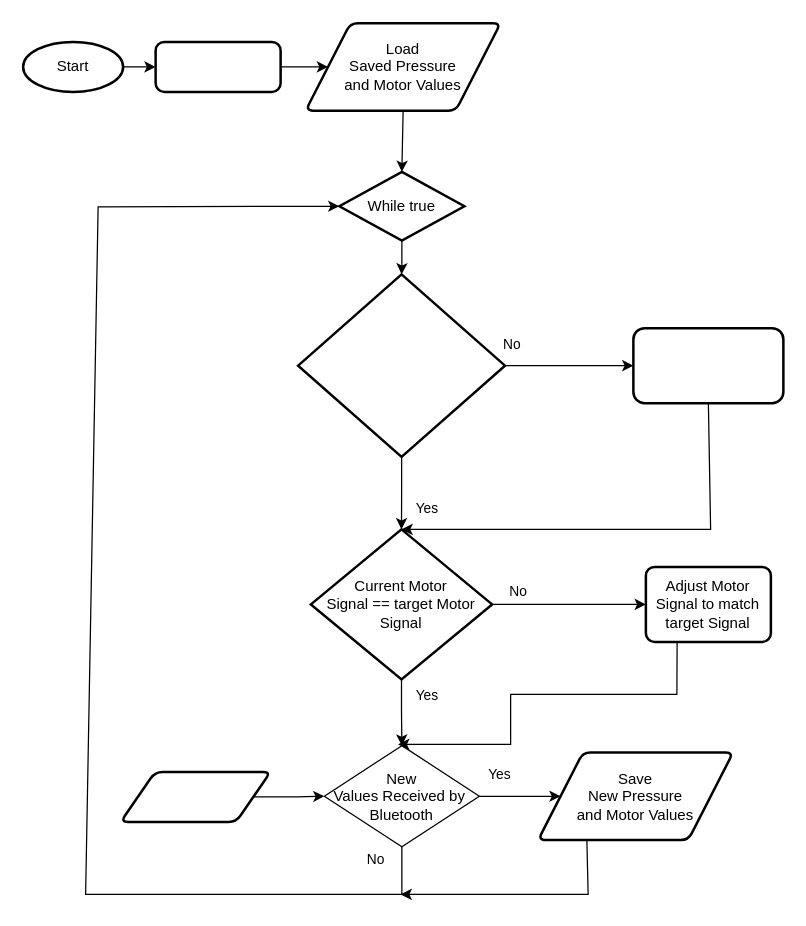
Some shapes in this 806 by 926 pixel diagram are drawn without their labels. Each missing label, with the box of its shape:
Current Pressure Signal == Target Pressure Range: (296, 272, 506, 458)
Initial Configurations: (154, 40, 281, 92)
Received Bluetooth Data: (119, 770, 271, 822)
Update Pressure Signal To Target Signal: (632, 326, 784, 404)
